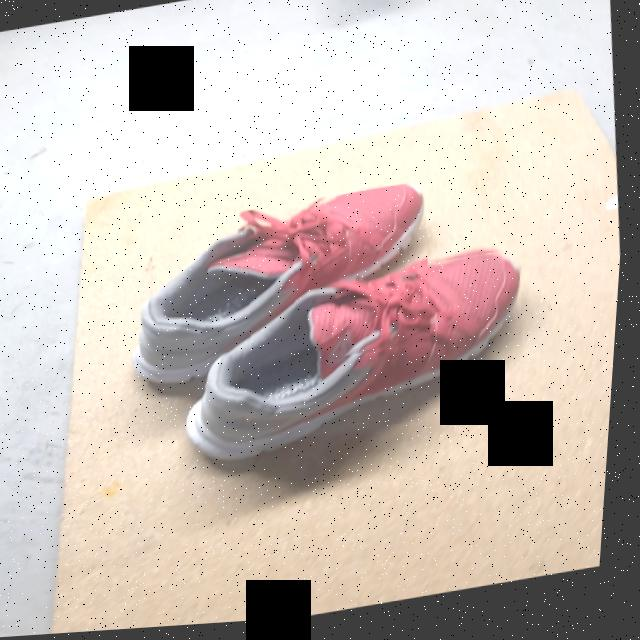shoe: (207, 261, 524, 449), (143, 189, 429, 389)
